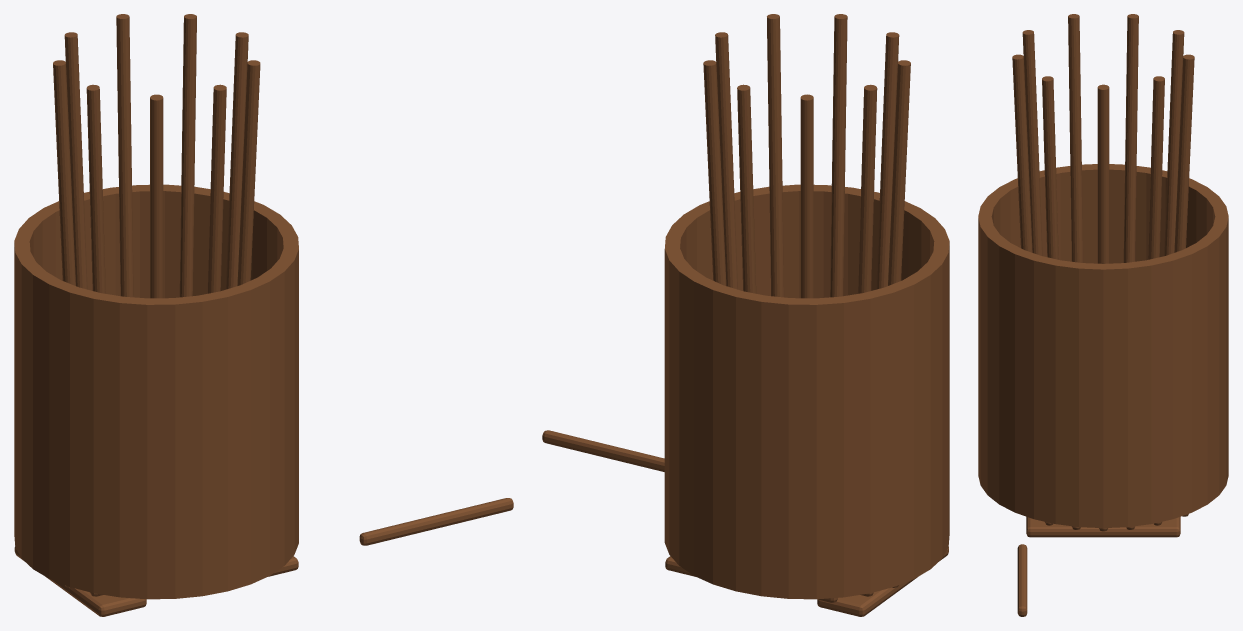
File: source-edit.glb
3 views of the same model, side by side, from view 1: azimuth 30°, elevation 25°; view 2: azimuth 150°, elevation 25°; view 3: azimuth 270°, elevation 25° (orthographic). The views are drawn at different scales.
Visible parts, largest first — view 1: Holder_Wall, Independent_Chopstick.002, Independent_Chopstick.001, Independent_Chopstick, Independent_Chopstick.003, Independent_Chopstick.008, Independent_Chopstick.004, Independent_Chopstick.005, Independent_Chopstick.007, Independent_Chopstick.006, Drain_Base_Rib, Foot; view 2: Holder_Wall, Independent_Chopstick.007, Independent_Chopstick.008, Independent_Chopstick.006, Independent_Chopstick, Independent_Chopstick.001, Independent_Chopstick.005, Independent_Chopstick.002, Independent_Chopstick.004, Independent_Chopstick.003, Drain_Base_Rib, Foot; view 3: Holder_Wall, Independent_Chopstick.004, Independent_Chopstick.005, Independent_Chopstick.003, Independent_Chopstick.006, Independent_Chopstick.002, Independent_Chopstick.007, Independent_Chopstick, Independent_Chopstick.001, Independent_Chopstick.008, Foot.001, Drain_Base_Rib.
Part boxes in pixels (x1,y1,x2,y2): Holder_Wall: [14, 184, 298, 599]; Independent_Chopstick.002: [116, 14, 133, 297]; Independent_Chopstick.001: [179, 14, 196, 297]; Independent_Chopstick: [225, 32, 248, 289]; Independent_Chopstick.003: [64, 32, 87, 289]; Independent_Chopstick.008: [237, 60, 260, 285]; Independent_Chopstick.004: [53, 60, 75, 285]; Independent_Chopstick.005: [86, 84, 105, 293]; Independent_Chopstick.007: [207, 84, 226, 293]; Independent_Chopstick.006: [150, 94, 163, 298]; Drain_Base_Rib: [359, 498, 513, 545]; Foot: [14, 546, 146, 616]; Holder_Wall: [664, 184, 949, 599]; Independent_Chopstick.007: [830, 14, 847, 297]; Independent_Chopstick.008: [767, 14, 784, 297]; Independent_Chopstick.006: [876, 32, 899, 289]; Independent_Chopstick: [715, 32, 737, 289]; Independent_Chopstick.001: [703, 60, 726, 285]; Independent_Chopstick.005: [888, 60, 910, 285]; Independent_Chopstick.002: [737, 84, 756, 293]; Independent_Chopstick.004: [858, 84, 877, 293]; Independent_Chopstick.003: [800, 94, 813, 298]; Drain_Base_Rib: [542, 430, 664, 471]; Foot: [817, 547, 948, 616]; Holder_Wall: [978, 164, 1228, 527]; Independent_Chopstick.004: [1123, 14, 1138, 262]; Independent_Chopstick.005: [1068, 14, 1083, 262]; Independent_Chopstick.003: [1164, 30, 1184, 256]; Independent_Chopstick.006: [1022, 30, 1042, 256]; Independent_Chopstick.002: [1174, 54, 1194, 252]; Independent_Chopstick.007: [1012, 54, 1032, 252]; Independent_Chopstick: [1097, 84, 1109, 263]; Independent_Chopstick.001: [1148, 76, 1164, 259]; Independent_Chopstick.008: [1042, 76, 1058, 259]; Foot.001: [1026, 516, 1180, 537]; Drain_Base_Rib: [1017, 544, 1027, 616].
Bounding box in the file's own units: 0.228 × 0.2551 × 0.13.
